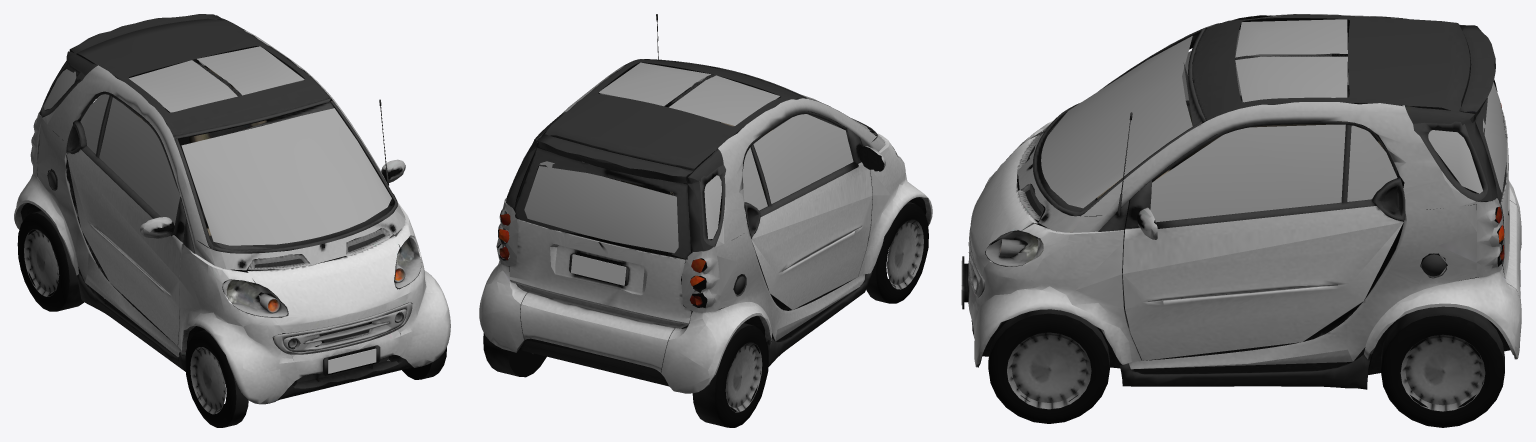
File: TRAFFIC_013_LOD2.fbx
3 renders of one model, left to right at view 1: azimuth 30°, elevation 25°; view 2: azimuth 150°, elevation 25°; view 3: azimuth 270°, elevation 25°, orthographic. The views are drawn at different scales.
Visible parts, largest first — view 1: TRAFFIC_013_body; view 2: TRAFFIC_013_body; view 3: TRAFFIC_013_body.
Boxes of the visible parts, <box> form: TRAFFIC_013_body: <box>14,14,450,427</box>; TRAFFIC_013_body: <box>479,14,932,427</box>; TRAFFIC_013_body: <box>961,14,1521,427</box>.
Size of the model in its own units: 1943 by 2916 by 1763.
